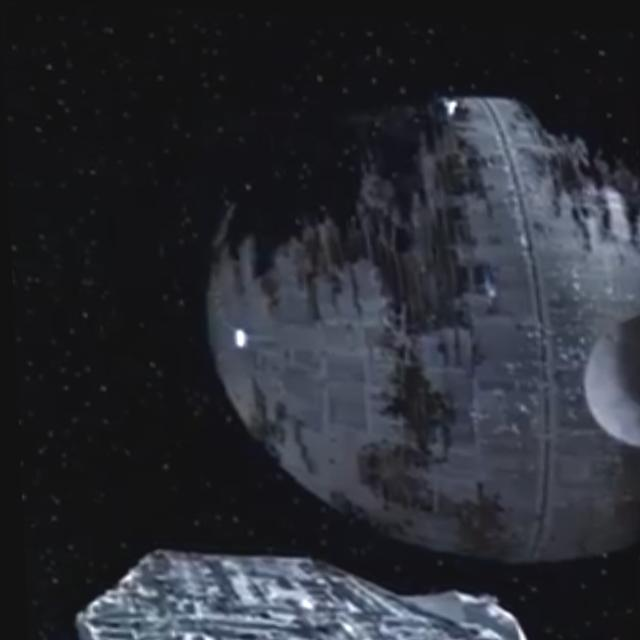deathStar: (186, 87, 640, 557)
